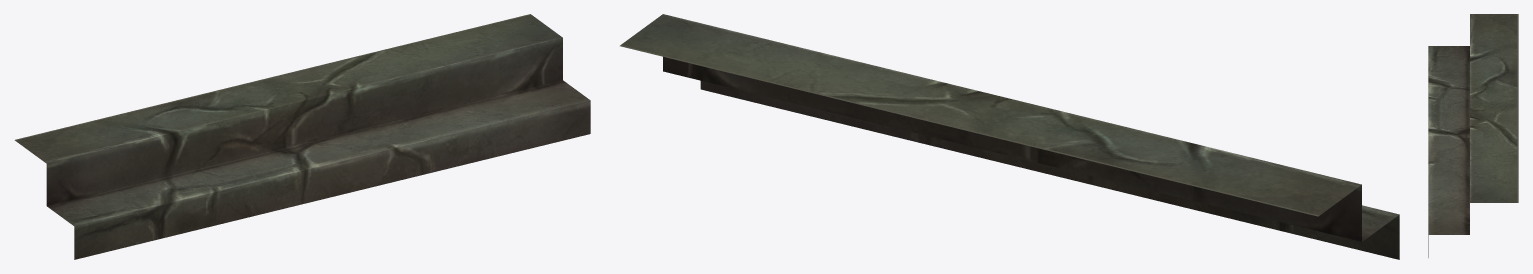
Rendered from F_louti002.fbx.
The picture shows the model from 3 angles, left to right: view 1: azimuth 30°, elevation 25°; view 2: azimuth 150°, elevation 25°; view 3: azimuth 270°, elevation 25°; orthographic projection. The views are drawn at different scales.
Visible parts, largest first — view 1: F_louti002; view 2: F_louti002; view 3: F_louti002.
Boxes of the visible parts, x1,y1,x2,y2 form: F_louti002: (14,14,590,259); F_louti002: (620,14,1399,259); F_louti002: (1428,14,1518,257).
Bounding box in the file's own units: 400 × 56.33 × 80.85.
